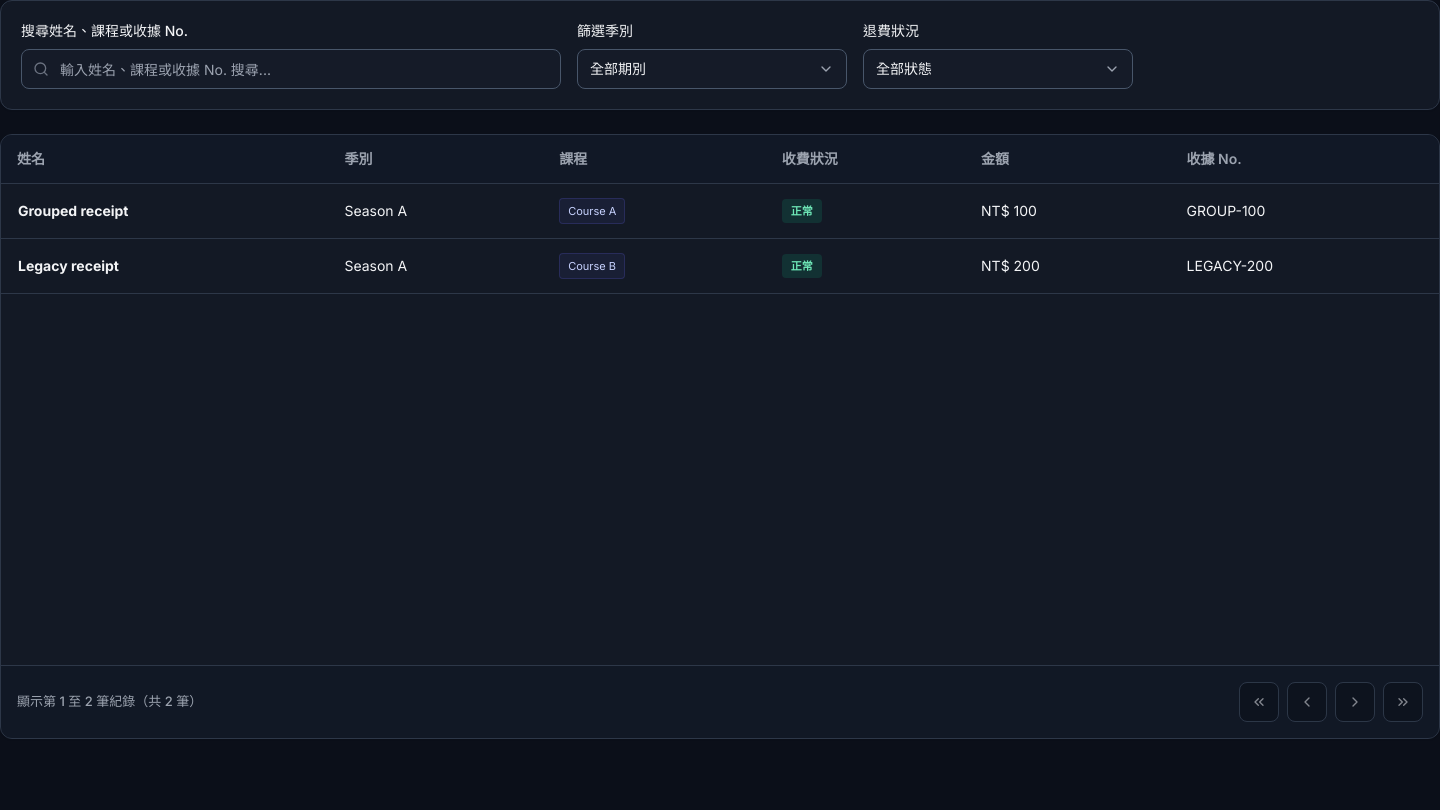
EnrollmentTab › searches receipt numbers from grouped and legacy billing case-insensitively
The image size is (1440, 810).
Type "group-100" into the field labelled "搜尋姓名、課程或收據 No.". click: (291, 69)
box: x1=21 y1=49 x2=561 y2=89
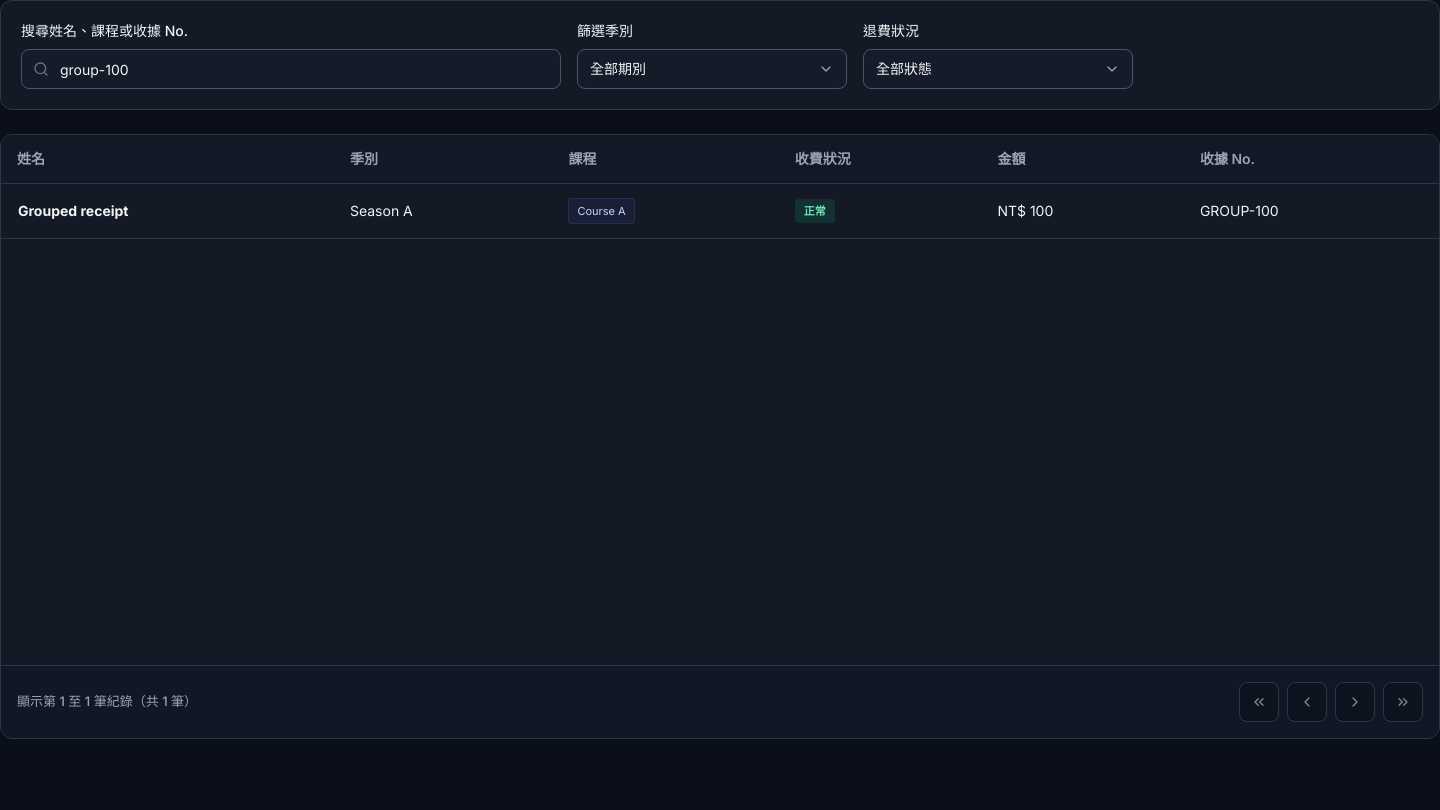
Check: the button "Grouped receipt" is shown, box x1=17 y1=200 x2=130 y2=222
Check: the button "Legacy receipt" is gone
Replace the text in the field labelled "搜尋姓名、課程或收據 No." with "legacy-200". click: (291, 69)
box: x1=21 y1=49 x2=561 y2=89
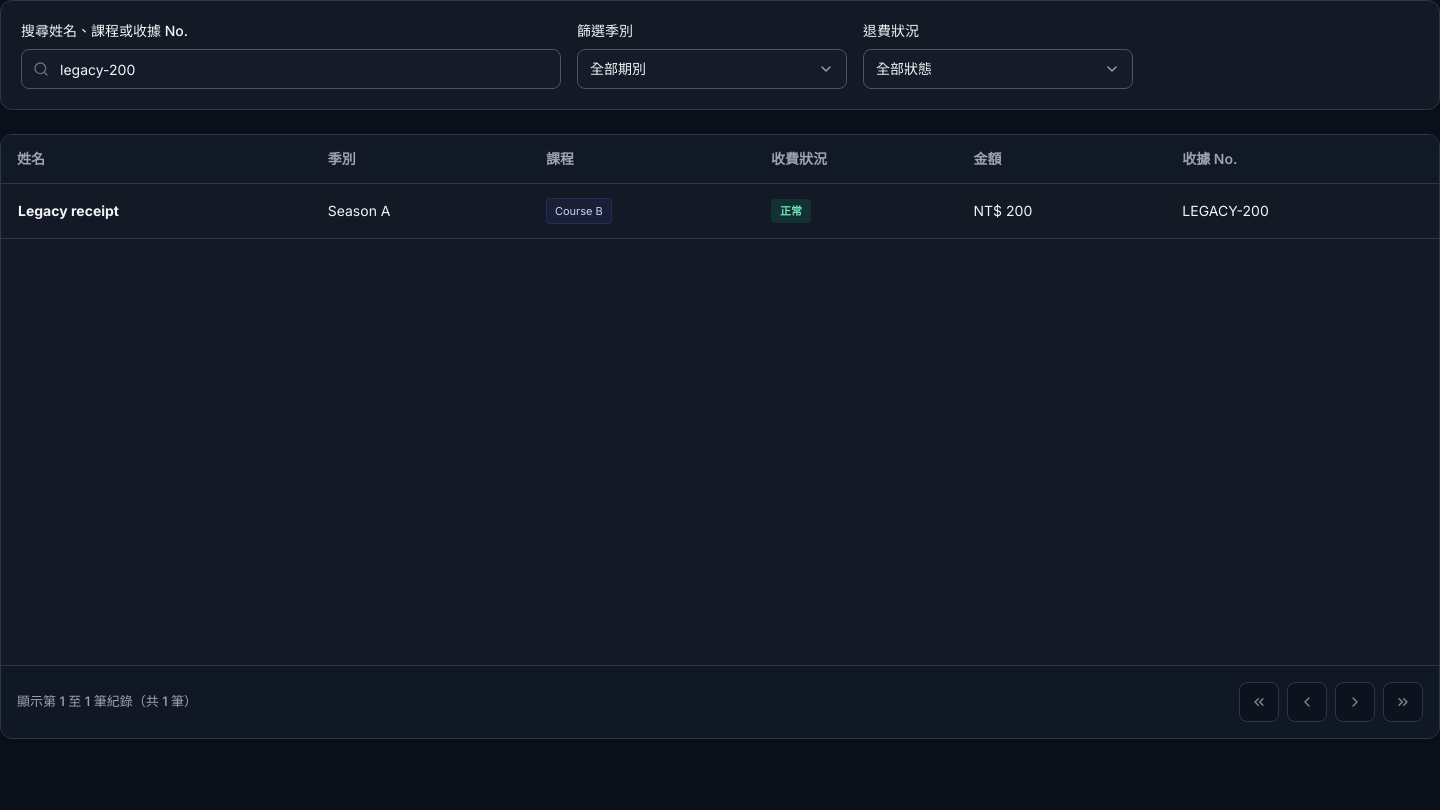
Check: the button "Grouped receipt" is gone
Check: the button "Legacy receipt" is shown, box x1=17 y1=200 x2=120 y2=222
